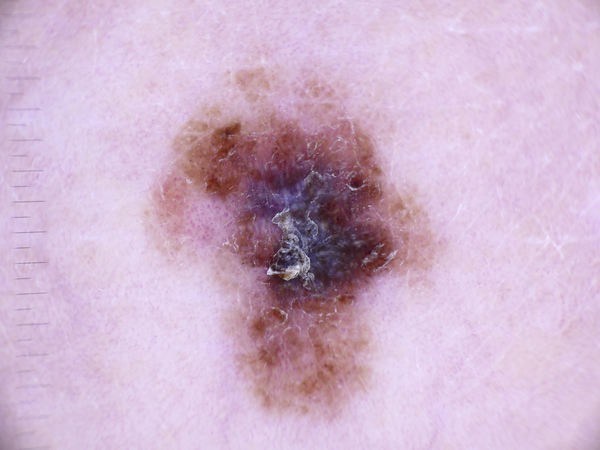Detected Lesion: (154, 83, 436, 417)
